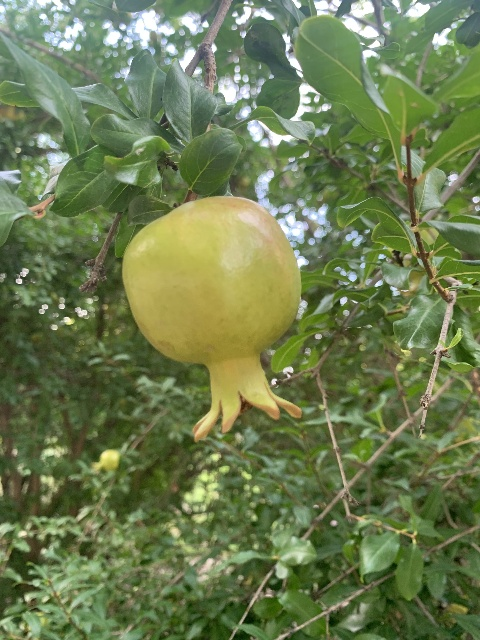mid-growth: (121, 197, 303, 443), (90, 448, 119, 475)
